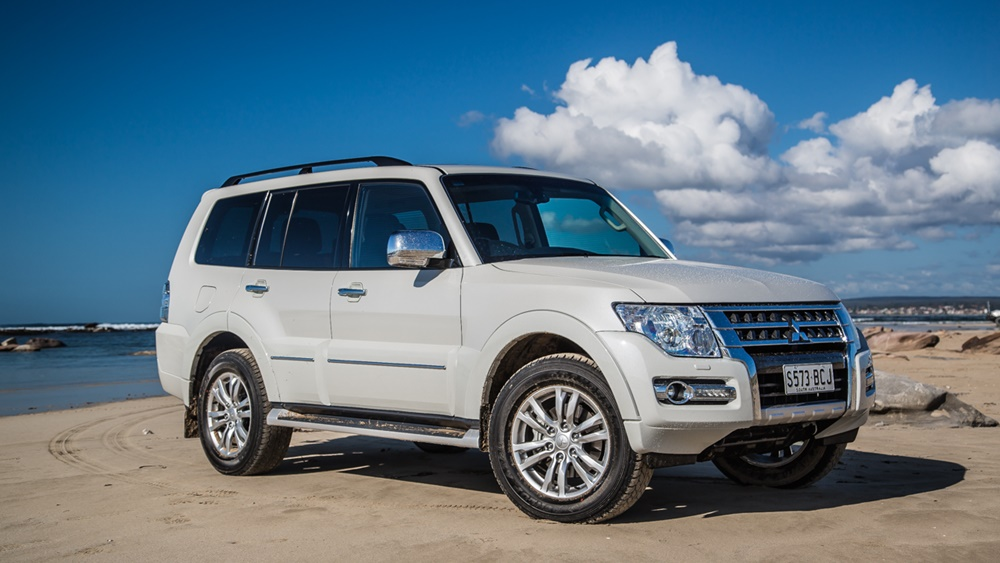pickup: (153, 155, 879, 523)
